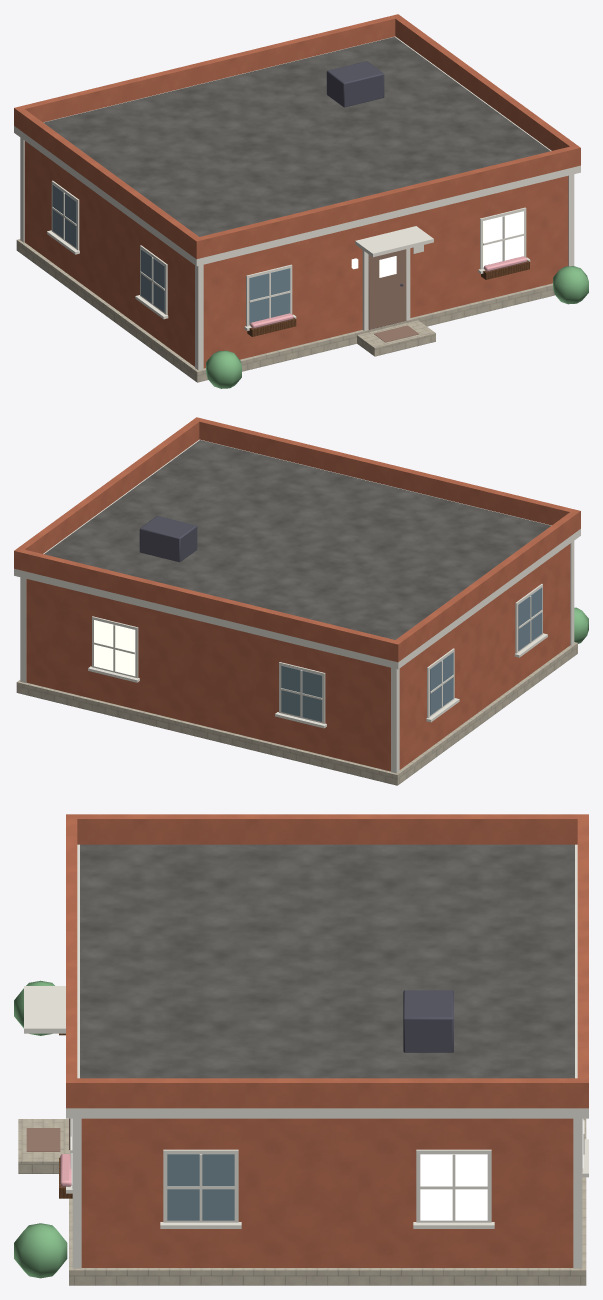
The model's file is exterior.glb.
3 views of the same model, one above another, from view 1: azimuth 30°, elevation 25°; view 2: azimuth 150°, elevation 25°; view 3: azimuth 270°, elevation 25° (orthographic). The views are drawn at different scales.
Parts seen in each view (by area): view 1: House_house_07, Door; view 2: House_house_07; view 3: House_house_07.
Boxes of the visible parts, x1,y1,x2,y2 form: House_house_07: [14, 14, 588, 388]; Door: [368, 249, 406, 329]; House_house_07: [14, 417, 588, 785]; House_house_07: [14, 814, 588, 1285].
Size of the model in its own units: 11.3 by 4.25 by 10.23.
7 materials, 7 textured.
